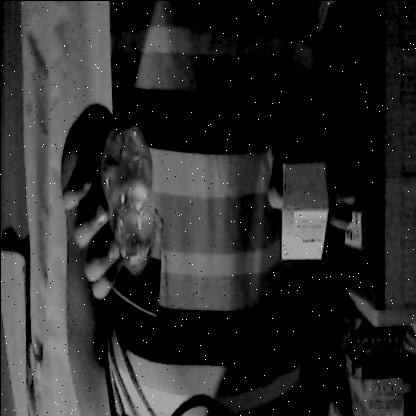Plastic Bottle: (92, 114, 163, 294)
